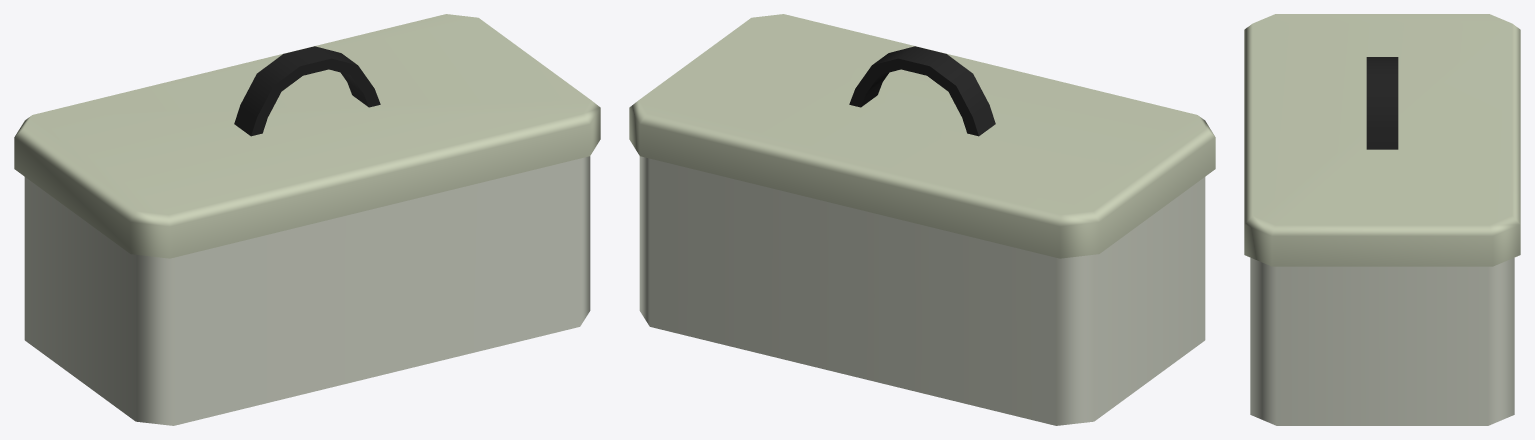
Rendered from prop_013.fbx.
3 views of the same model, side by side, from view 1: azimuth 30°, elevation 25°; view 2: azimuth 150°, elevation 25°; view 3: azimuth 270°, elevation 25° (orthographic). The views are drawn at different scales.
Parts seen in each view (by area): view 1: prop_013; view 2: prop_013; view 3: prop_013.
Part boxes in pixels (box(x1,y1,x2,y2)): prop_013: box(14, 14, 600, 425); prop_013: box(629, 14, 1215, 425); prop_013: box(1244, 14, 1520, 425).
Bounding box in the file's own units: 59.48 × 31.82 × 32.57.
